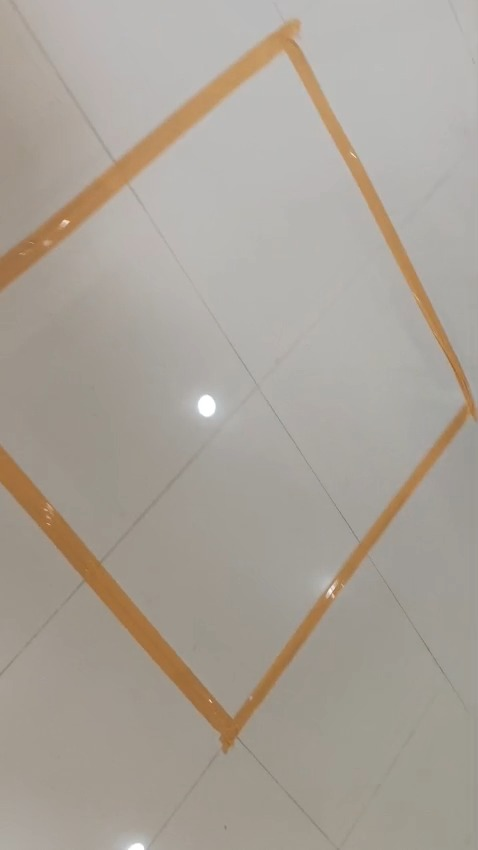floor marking: (0, 22, 476, 752)
